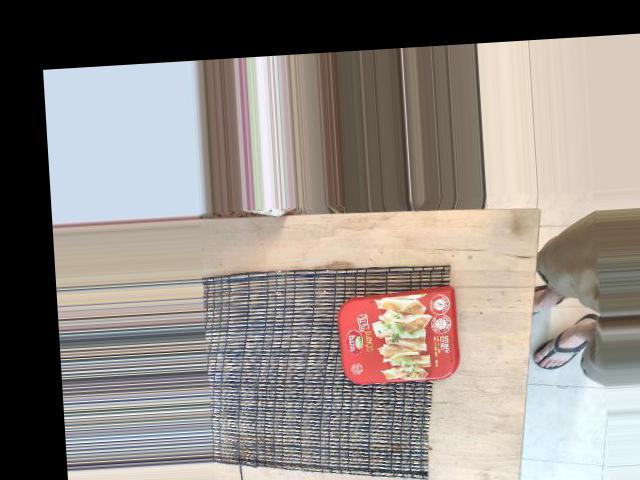cheese: (328, 245, 483, 400)
